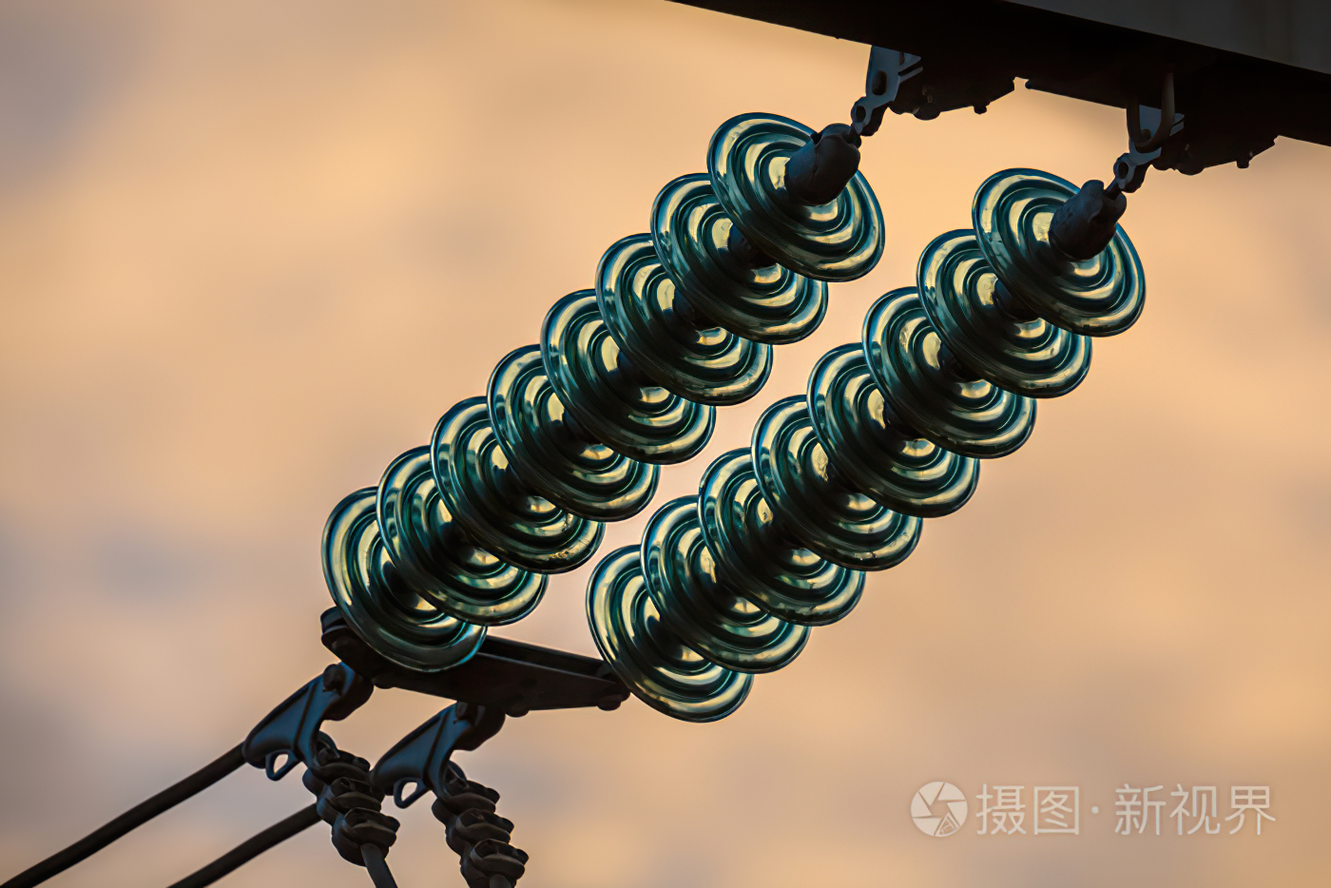insulator: (330, 109, 882, 670), (588, 166, 1144, 720)
